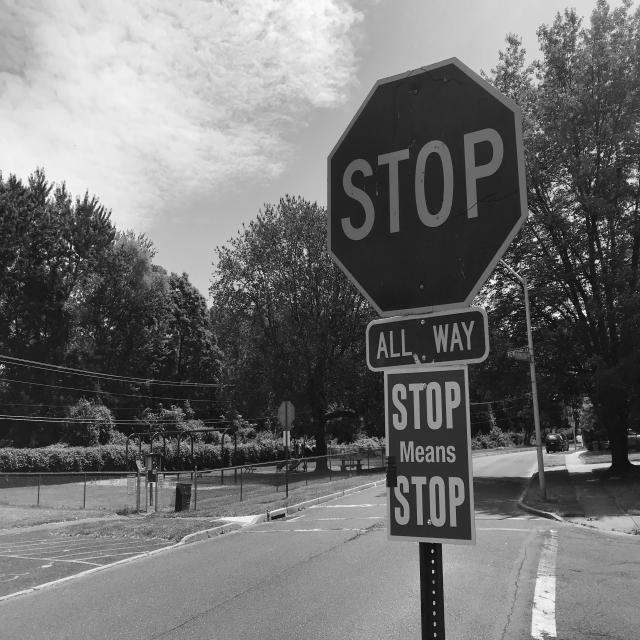Stop-sign: (298, 61, 536, 307)
